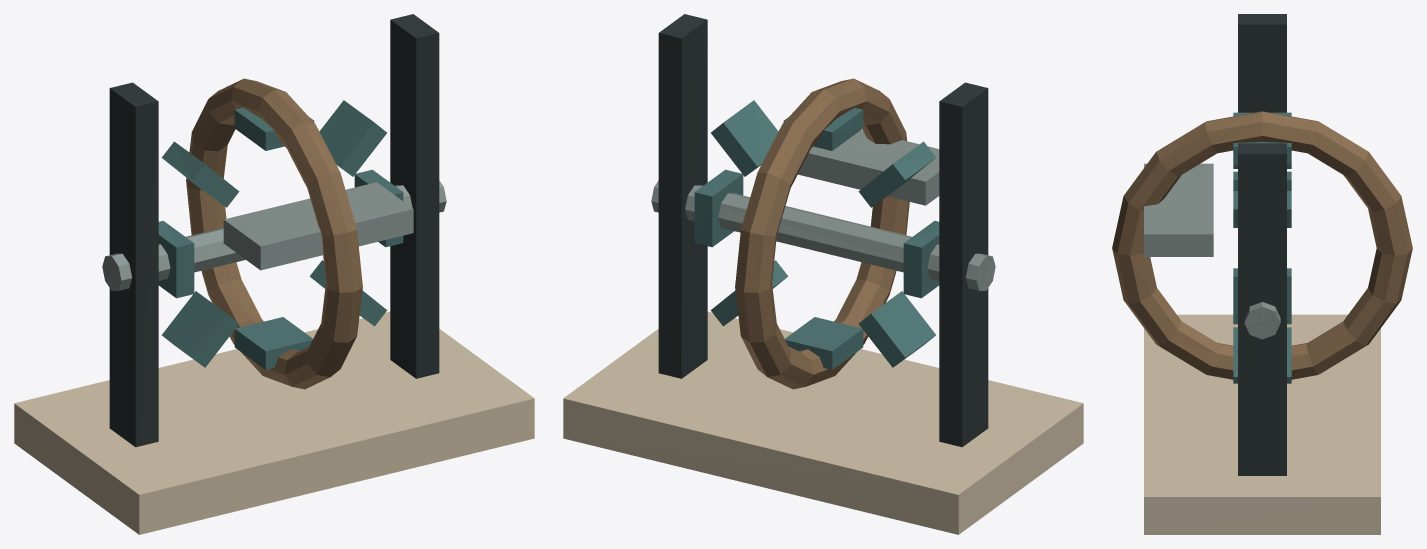
The model's file is water-wheel.source.glb.
3 renders of one model, left to right at view 1: azimuth 30°, elevation 25°; view 2: azimuth 150°, elevation 25°; view 3: azimuth 270°, elevation 25°, orthographic. The views are drawn at different scales.
Visible parts, largest first — view 1: water-wheel-stone-channel-base-mesh, water-wheel-large-timber-wheel-mesh, water-wheel-support-frame--1.1-mesh, water-wheel-support-frame-1.1-mesh, water-wheel-water-inlet-lip-mesh, water-wheel-water-blade-5-mesh, water-wheel-wheel-axle-mesh, water-wheel-water-blade-1-mesh, water-wheel-water-blade-6-mesh, water-wheel-water-blade-4-mesh, water-wheel-water-blade-3-mesh, water-wheel-water-blade-2-mesh (+2 smaller); view 2: water-wheel-stone-channel-base-mesh, water-wheel-large-timber-wheel-mesh, water-wheel-support-frame--1.1-mesh, water-wheel-support-frame-1.1-mesh, water-wheel-wheel-axle-mesh, water-wheel-water-inlet-lip-mesh, water-wheel-water-blade-5-mesh, water-wheel-water-blade-1-mesh, water-wheel-water-blade-6-mesh, water-wheel-water-blade-0-mesh, water-wheel-water-blade-4-mesh, water-wheel-water-blade-3-mesh (+2 smaller); view 3: water-wheel-stone-channel-base-mesh, water-wheel-large-timber-wheel-mesh, water-wheel-support-frame-1.1-mesh, water-wheel-water-inlet-lip-mesh, water-wheel-support-frame--1.1-mesh, water-wheel-wheel-axle-mesh, water-wheel-water-blade-0-mesh, water-wheel-water-blade-7-mesh, water-wheel-water-blade-1-mesh.
Part boxes in pixels (x1,y1,x2,y2): water-wheel-stone-channel-base-mesh: (14,311,534,534); water-wheel-large-timber-wheel-mesh: (186,78,362,389); water-wheel-support-frame--1.1-mesh: (109,82,158,447); water-wheel-support-frame-1.1-mesh: (390,14,439,378); water-wheel-water-inlet-lip-mesh: (223,182,413,270); water-wheel-water-blade-5-mesh: (162,291,238,367); water-wheel-wheel-axle-mesh: (102,180,446,290); water-wheel-water-blade-1-mesh: (319,100,386,176); water-wheel-water-blade-6-mesh: (234,317,312,369); water-wheel-water-blade-4-mesh: (158,220,194,298); water-wheel-water-blade-3-mesh: (161,141,239,207); water-wheel-water-blade-2-mesh: (234,107,314,150); water-wheel-stone-channel-base-mesh: (563,311,1083,534); water-wheel-large-timber-wheel-mesh: (735,78,909,389); water-wheel-support-frame--1.1-mesh: (939,82,988,447); water-wheel-support-frame-1.1-mesh: (658,14,707,378); water-wheel-wheel-axle-mesh: (651,180,995,290); water-wheel-water-inlet-lip-mesh: (798,130,939,205); water-wheel-water-blade-5-mesh: (859,291,935,367); water-wheel-water-blade-1-mesh: (711,100,778,176); water-wheel-water-blade-6-mesh: (785,317,863,369); water-wheel-water-blade-0-mesh: (694,169,743,247); water-wheel-water-blade-4-mesh: (903,220,939,298); water-wheel-water-blade-3-mesh: (858,141,936,207); water-wheel-stone-channel-base-mesh: (1144,314,1380,534); water-wheel-large-timber-wheel-mesh: (1112,111,1412,379); water-wheel-support-frame-1.1-mesh: (1238,143,1286,475); water-wheel-water-inlet-lip-mesh: (1144,163,1213,256); water-wheel-support-frame--1.1-mesh: (1238,14,1286,112); water-wheel-wheel-axle-mesh: (1244,302,1280,339); water-wheel-water-blade-0-mesh: (1233,268,1291,324); water-wheel-water-blade-7-mesh: (1233,327,1291,383); water-wheel-water-blade-1-mesh: (1233,191,1291,227).
Size of the model in its own units: 3.1 by 2.85 by 2.16.
